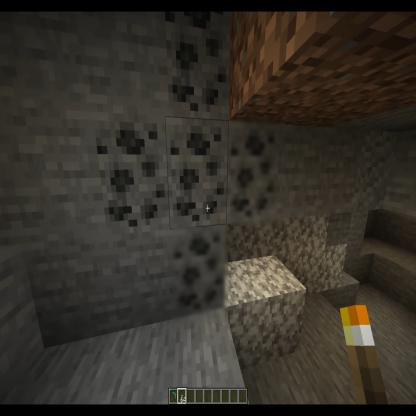coal ore: (94, 123, 174, 229), (166, 8, 235, 118), (164, 115, 230, 227), (227, 117, 278, 226), (172, 224, 228, 323)
